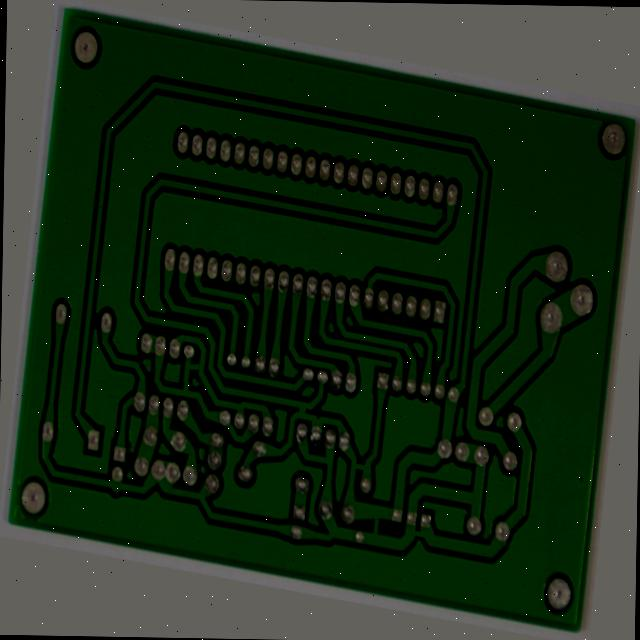short: (364, 465, 388, 505), (430, 529, 457, 563), (176, 380, 202, 413), (297, 413, 321, 443), (387, 532, 410, 563)
